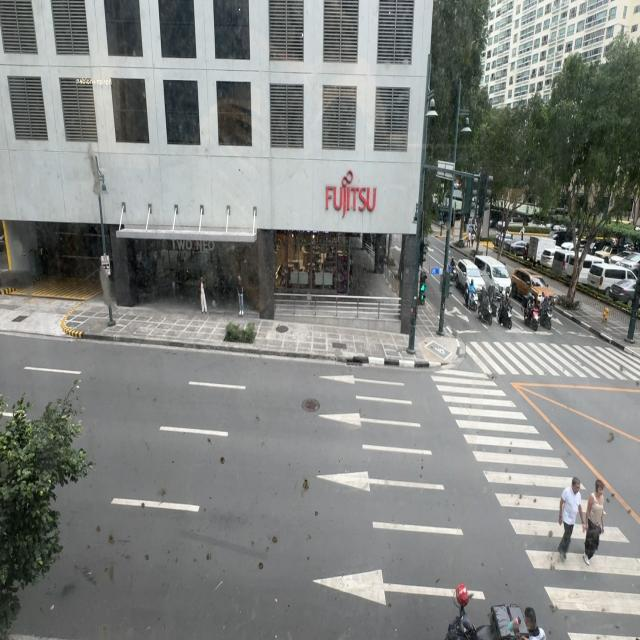crossing: (584, 469, 610, 561), (558, 476, 586, 560), (558, 467, 583, 557), (582, 480, 605, 564)
